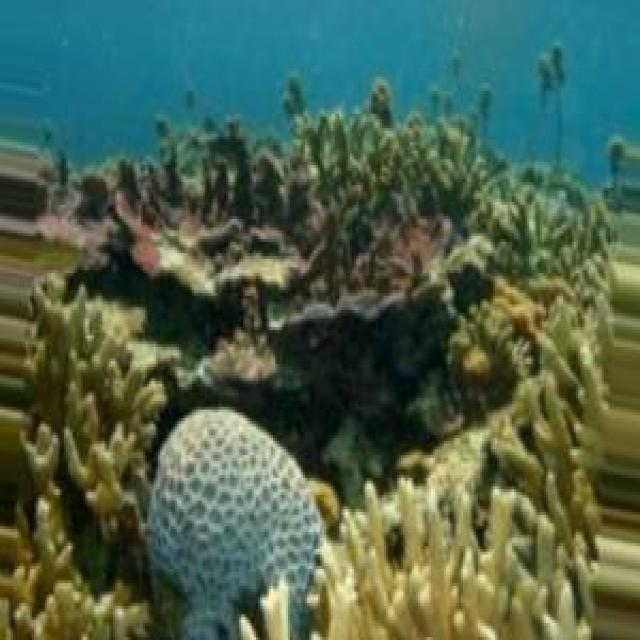Bleached: (151, 409, 322, 639)
Healthy: (70, 116, 562, 503), (205, 84, 611, 306), (321, 373, 594, 639), (35, 288, 167, 539), (1, 424, 147, 639)
